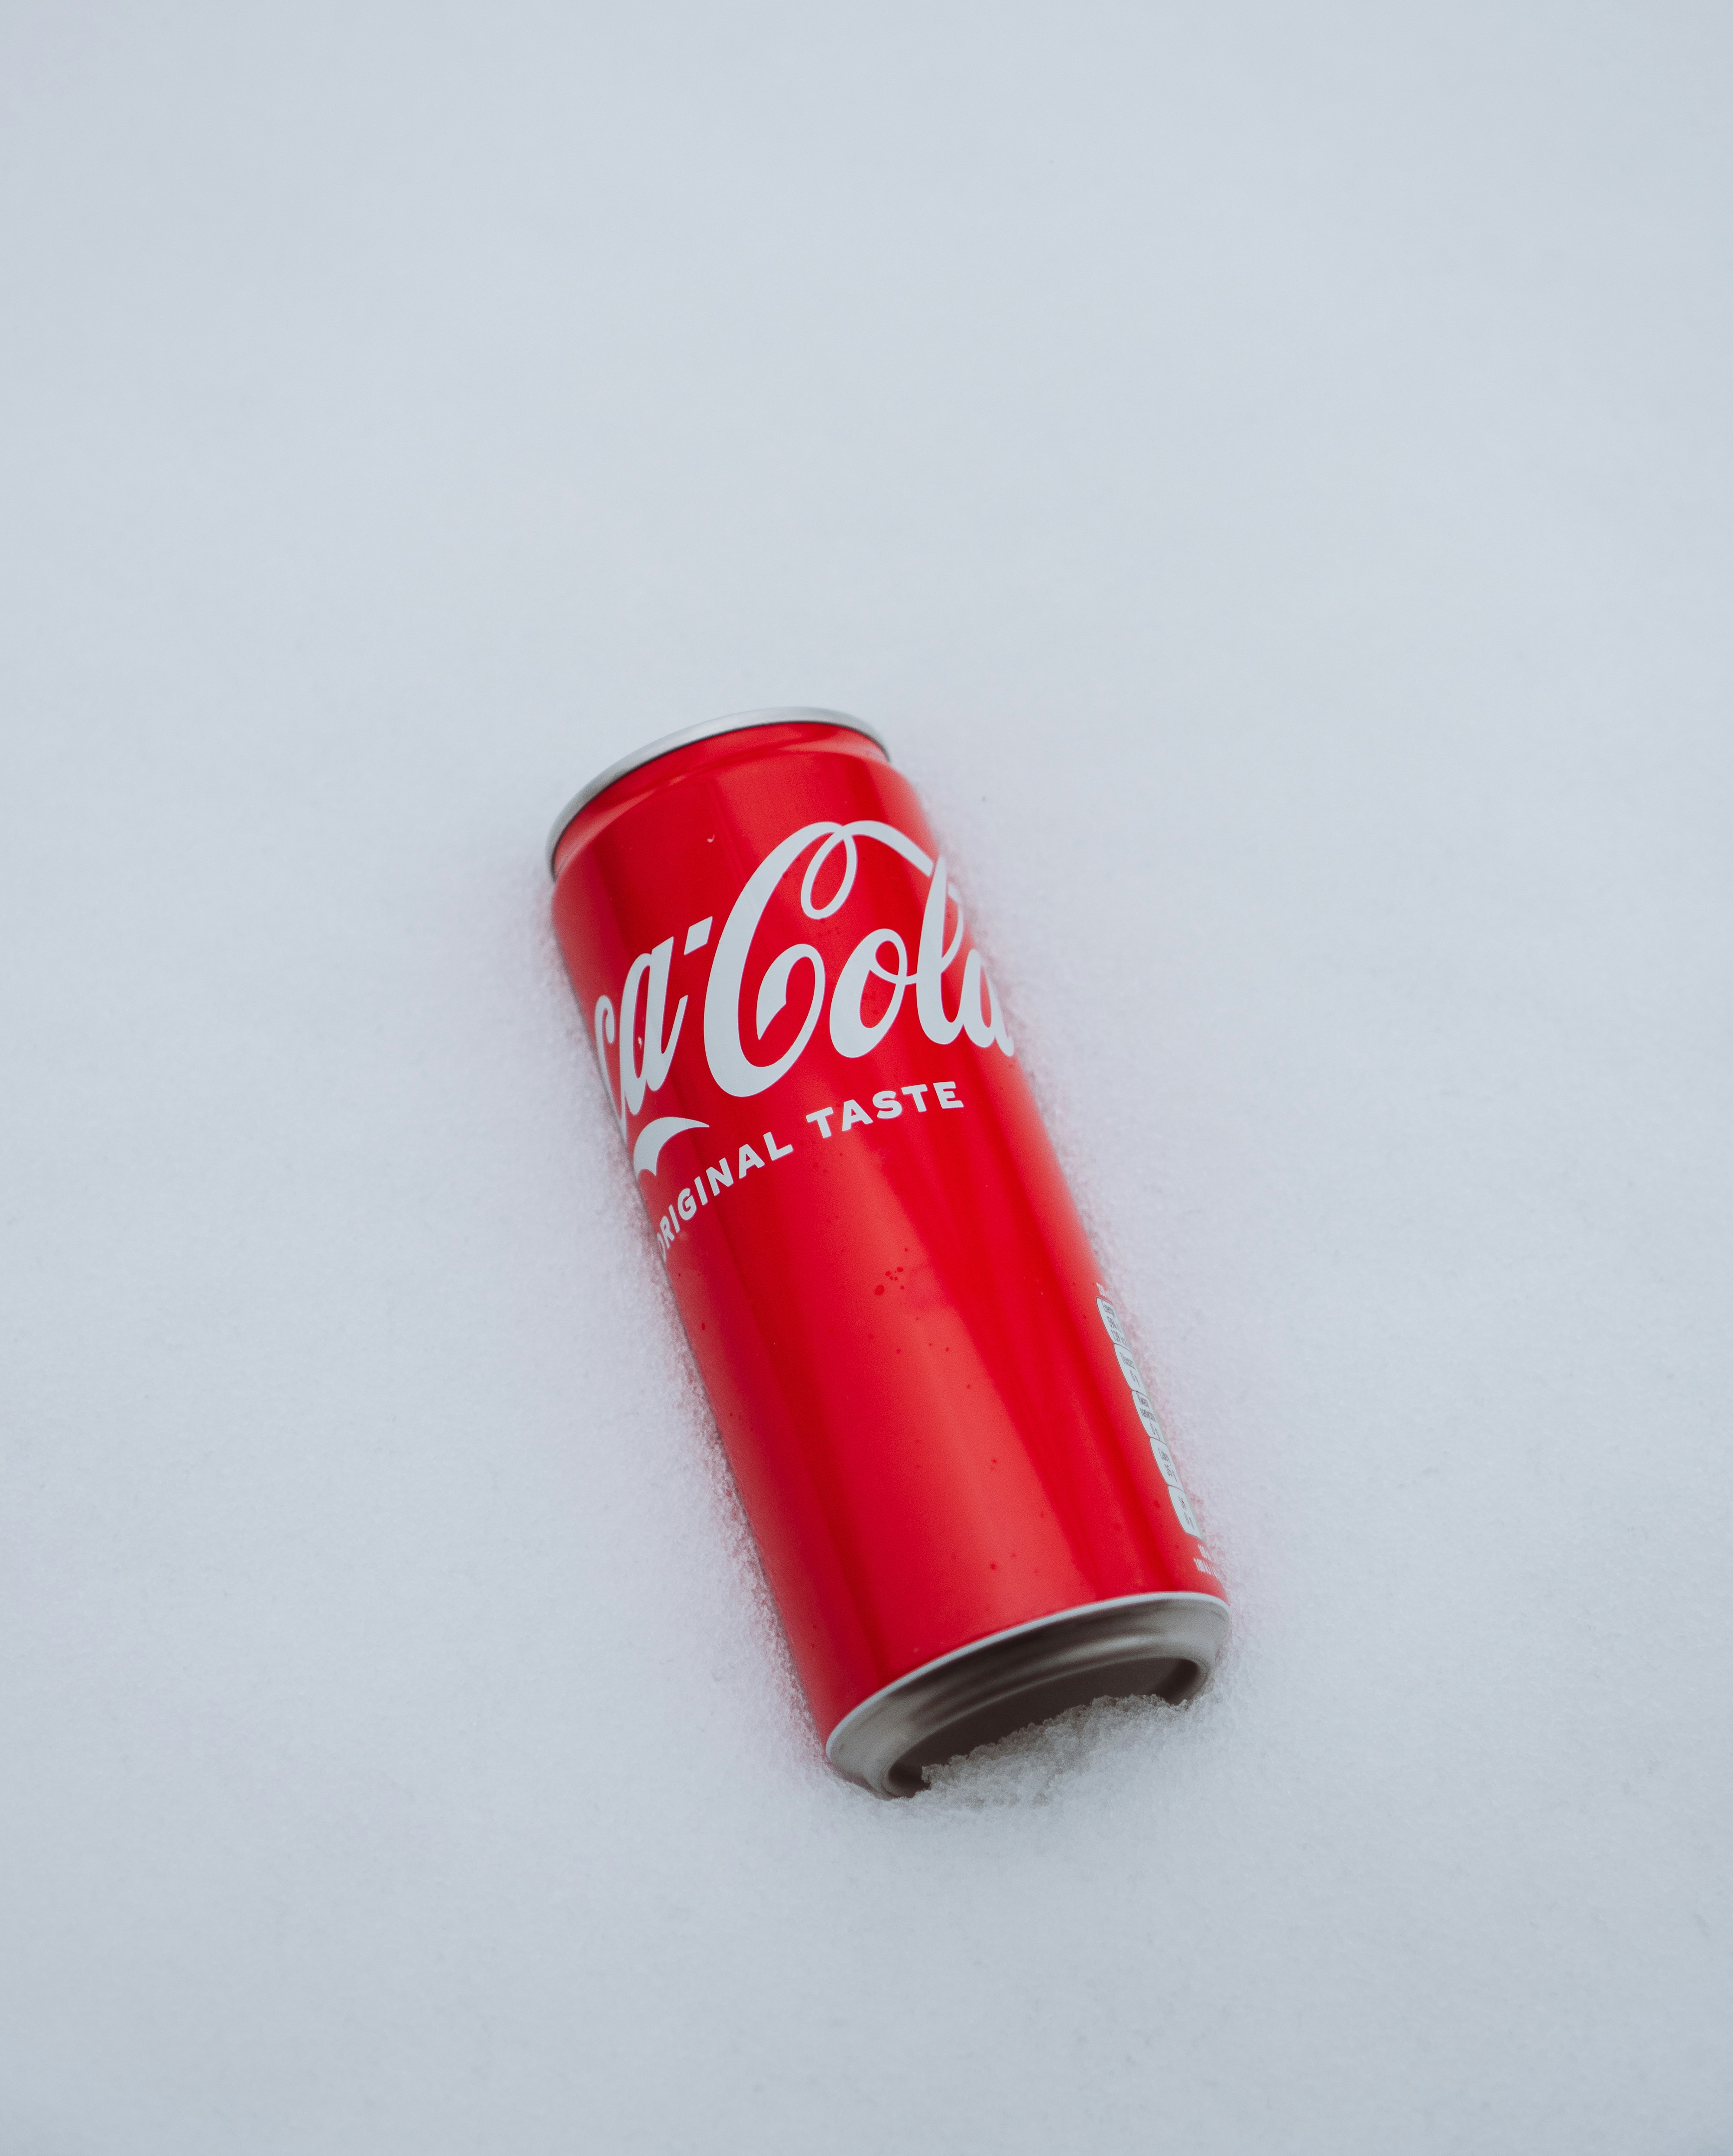COCOCOLA: (549, 737, 1222, 1753)
